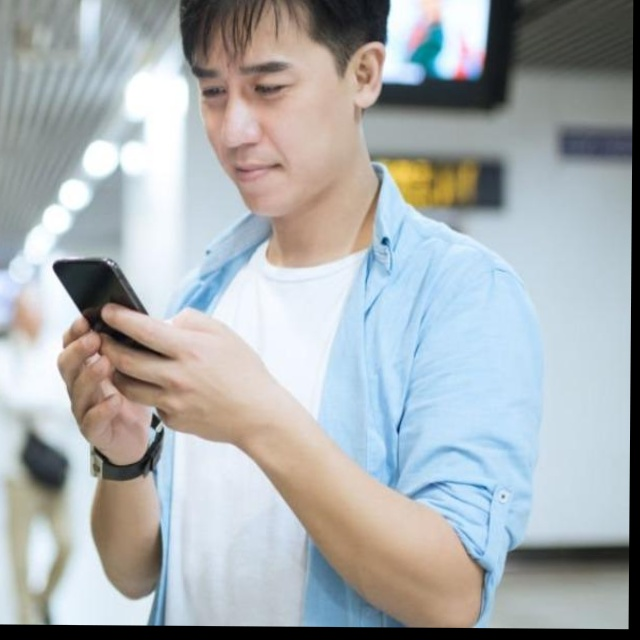Sin_Casco_Mascarrilla: (177, 0, 392, 215)
Sin_Chaleco: (151, 197, 542, 629)
